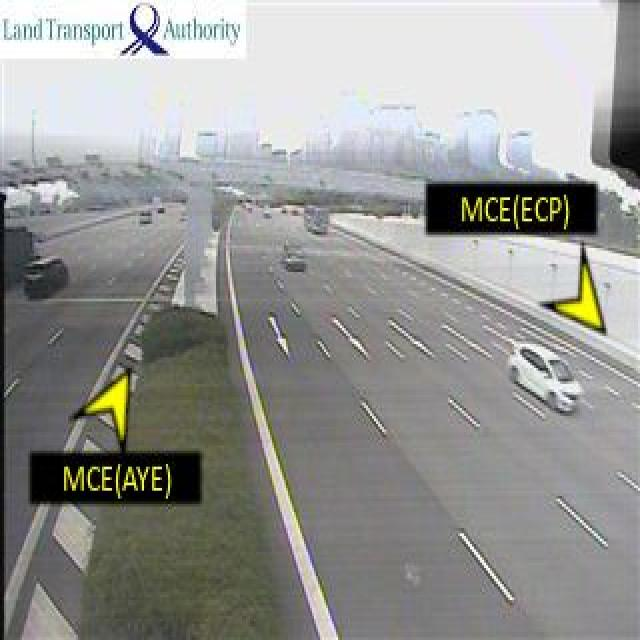vehicles: (512, 346, 580, 414), (22, 256, 74, 303), (303, 202, 334, 238), (286, 241, 307, 273)
